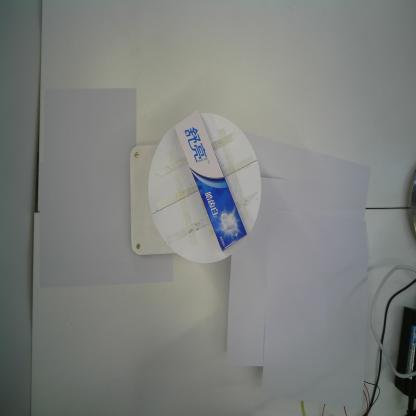Personal Hygiene: (174, 107, 247, 252)
